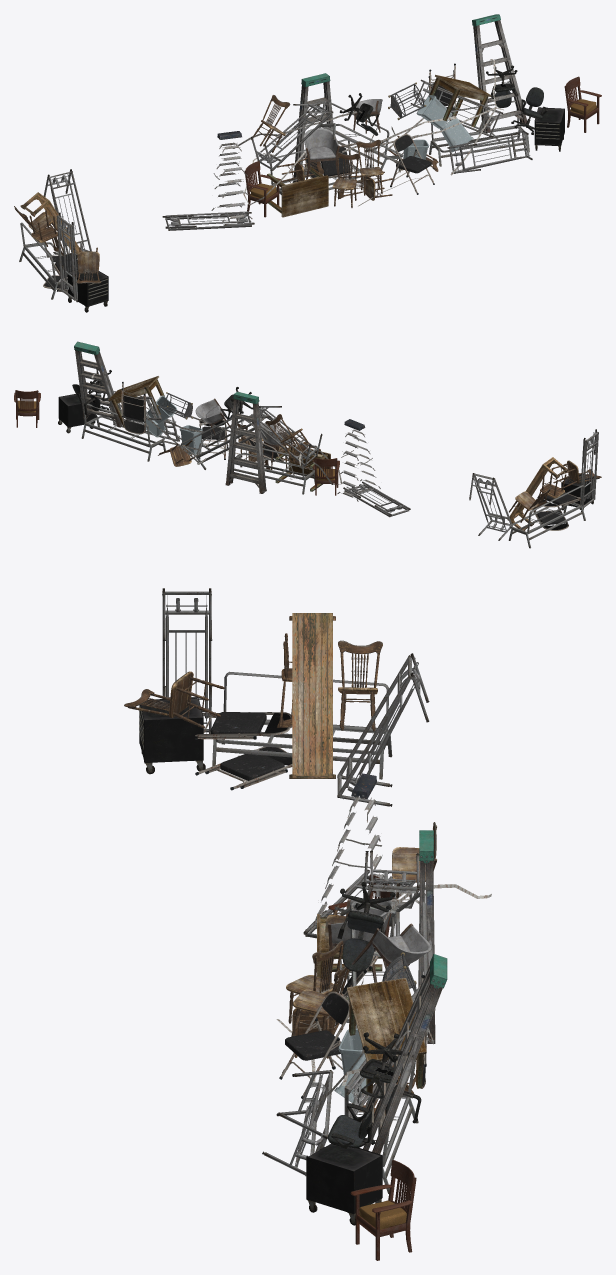
The model's file is sm39_152_hallbarricade01a.fbx.
3 views of the same model, one above another, from view 1: azimuth 30°, elevation 25°; view 2: azimuth 150°, elevation 25°; view 3: azimuth 270°, elevation 25° (orthographic). The views are drawn at different scales.
Parts seen in each view (by area): view 1: LOD_1_Group_0_Sub_2__sm30_012_OfficeChair01A_A_Mat, LOD_1_Group_0_Sub_12__sm30_043_FoldingTable03A_A_Mat, LOD_1_Group_0_Sub_9__sm21_027_Foldingladder01A_A_Mat, LOD_1_Group_0_Sub_8__sm30_004_FoldingTable02A_A_Mat, LOD_1_Group_0_Sub_11__sm30_108_FarmTable01A_A_Mat, LOD_1_Group_4_Sub_2__sm30_039_OfficeCabinet06A_A_Mat, LOD_1_Group_0_Sub_10__sm30_153_FoldingChair01A_A_Mat, LOD_1_Group_0_Sub_4__sm30_104_Dustbox01B_B_Mat, LOD_1_Group_3_Sub_1__sm30_057_OfficeChair_A_Mat, LOD_1_Group_0_Sub_3__sm30_143_WhiteLivingChair01A_D_Mat, LOD_1_Group_0_Sub_1__sm42_006_BlastBarricade01A_B_Mat1, LOD_1_Group_5_Sub_1__sm30_002_OfficeSofa01A_A_Mat (+8 smaller); view 2: LOD_1_Group_0_Sub_9__sm21_027_Foldingladder01A_A_Mat, LOD_1_Group_0_Sub_2__sm30_012_OfficeChair01A_A_Mat, LOD_1_Group_0_Sub_12__sm30_043_FoldingTable03A_A_Mat, LOD_1_Group_0_Sub_8__sm30_004_FoldingTable02A_A_Mat, LOD_1_Group_0_Sub_10__sm30_153_FoldingChair01A_A_Mat, LOD_1_Group_6_Sub_1__sm30_002_OfficeSofa01A_A_Mat, LOD_1_Group_0_Sub_11__sm30_108_FarmTable01A_A_Mat, LOD_1_Group_4_Sub_2__sm30_039_OfficeCabinet06A_A_Mat, LOD_1_Group_5_Sub_1__sm30_002_OfficeSofa01A_A_Mat, LOD_1_Group_7_Sub_1__sm30_002_OfficeSofa01A_A_Mat, LOD_1_Group_0_Sub_4__sm30_104_Dustbox01B_B_Mat, LOD_1_Group_0_Sub_3__sm30_143_WhiteLivingChair01A_D_Mat (+8 smaller); view 3: LOD_1_Group_0_Sub_2__sm30_012_OfficeChair01A_A_Mat, LOD_1_Group_4_Sub_2__sm30_039_OfficeCabinet06A_A_Mat, LOD_1_Group_0_Sub_12__sm30_043_FoldingTable03A_A_Mat, LOD_1_Group_0_Sub_14__sm30_079_Bench01A_A_Mat, LOD_1_Group_0_Sub_9__sm21_027_Foldingladder01A_A_Mat, LOD_1_Group_0_Sub_11__sm30_108_FarmTable01A_A_Mat, LOD_1_Group_0_Sub_10__sm30_153_FoldingChair01A_A_Mat, LOD_1_Group_3_Sub_1__sm30_057_OfficeChair_A_Mat, LOD_1_Group_0_Sub_8__sm30_004_FoldingTable02A_A_Mat, LOD_1_Group_0_Sub_7__sm30_118_WoodChair03A_A_Mat, LOD_1_Group_0_Sub_3__sm30_143_WhiteLivingChair01A_D_Mat, LOD_1_Group_7_Sub_1__sm30_002_OfficeSofa01A_A_Mat (+6 smaller).
Part boxes in pixels (x1,y1,x2,y2): LOD_1_Group_0_Sub_2__sm30_012_OfficeChair01A_A_Mat: (14, 95, 438, 283); LOD_1_Group_0_Sub_12__sm30_043_FoldingTable03A_A_Mat: (43, 103, 532, 255); LOD_1_Group_0_Sub_9__sm21_027_Foldingladder01A_A_Mat: (292, 14, 526, 182); LOD_1_Group_0_Sub_8__sm30_004_FoldingTable02A_A_Mat: (56, 79, 502, 302); LOD_1_Group_0_Sub_11__sm30_108_FarmTable01A_A_Mat: (267, 74, 491, 217); LOD_1_Group_4_Sub_2__sm30_039_OfficeCabinet06A_A_Mat: (68, 107, 564, 312); LOD_1_Group_0_Sub_10__sm30_153_FoldingChair01A_A_Mat: (43, 63, 456, 292); LOD_1_Group_0_Sub_4__sm30_104_Dustbox01B_B_Mat: (403, 95, 473, 159); LOD_1_Group_3_Sub_1__sm30_057_OfficeChair_A_Mat: (339, 65, 543, 135); LOD_1_Group_0_Sub_3__sm30_143_WhiteLivingChair01A_D_Mat: (303, 99, 382, 179); LOD_1_Group_0_Sub_1__sm42_006_BlastBarricade01A_B_Mat1: (230, 59, 503, 206); LOD_1_Group_5_Sub_1__sm30_002_OfficeSofa01A_A_Mat: (318, 100, 527, 172); LOD_1_Group_0_Sub_9__sm21_027_Foldingladder01A_A_Mat: (74, 341, 266, 493); LOD_1_Group_0_Sub_2__sm30_012_OfficeChair01A_A_Mat: (158, 414, 601, 522); LOD_1_Group_0_Sub_12__sm30_043_FoldingTable03A_A_Mat: (109, 403, 512, 540); LOD_1_Group_0_Sub_8__sm30_004_FoldingTable02A_A_Mat: (121, 396, 598, 517); LOD_1_Group_0_Sub_10__sm30_153_FoldingChair01A_A_Mat: (121, 382, 587, 530); LOD_1_Group_6_Sub_1__sm30_002_OfficeSofa01A_A_Mat: (81, 416, 314, 494); LOD_1_Group_0_Sub_11__sm30_108_FarmTable01A_A_Mat: (108, 376, 330, 491); LOD_1_Group_4_Sub_2__sm30_039_OfficeCabinet06A_A_Mat: (58, 394, 594, 511); LOD_1_Group_5_Sub_1__sm30_002_OfficeSofa01A_A_Mat: (83, 403, 271, 469); LOD_1_Group_7_Sub_1__sm30_002_OfficeSofa01A_A_Mat: (508, 485, 585, 548); LOD_1_Group_0_Sub_4__sm30_104_Dustbox01B_B_Mat: (142, 395, 202, 454); LOD_1_Group_0_Sub_3__sm30_143_WhiteLivingChair01A_D_Mat: (195, 398, 293, 464); LOD_1_Group_0_Sub_2__sm30_012_OfficeChair01A_A_Mat: (124, 633, 436, 1115); LOD_1_Group_4_Sub_2__sm30_039_OfficeCabinet06A_A_Mat: (139, 697, 382, 1225); LOD_1_Group_0_Sub_12__sm30_043_FoldingTable03A_A_Mat: (262, 653, 429, 1176); LOD_1_Group_0_Sub_14__sm30_079_Bench01A_A_Mat: (289, 613, 335, 778); LOD_1_Group_0_Sub_9__sm21_027_Foldingladder01A_A_Mat: (361, 830, 447, 1154); LOD_1_Group_0_Sub_11__sm30_108_FarmTable01A_A_Mat: (317, 914, 426, 1096); LOD_1_Group_0_Sub_10__sm30_153_FoldingChair01A_A_Mat: (194, 712, 426, 1088); LOD_1_Group_3_Sub_1__sm30_057_OfficeChair_A_Mat: (337, 882, 421, 1138); LOD_1_Group_0_Sub_8__sm30_004_FoldingTable02A_A_Mat: (162, 588, 420, 1118); LOD_1_Group_0_Sub_7__sm30_118_WoodChair03A_A_Mat: (350, 1160, 416, 1260); LOD_1_Group_0_Sub_3__sm30_143_WhiteLivingChair01A_D_Mat: (327, 899, 431, 982); LOD_1_Group_7_Sub_1__sm30_002_OfficeSofa01A_A_Mat: (212, 671, 392, 779).
Bounding box in the file's own units: 15.08 × 2.92 × 4.51.
